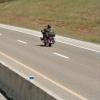Motorcycle: (31, 19, 63, 52)
